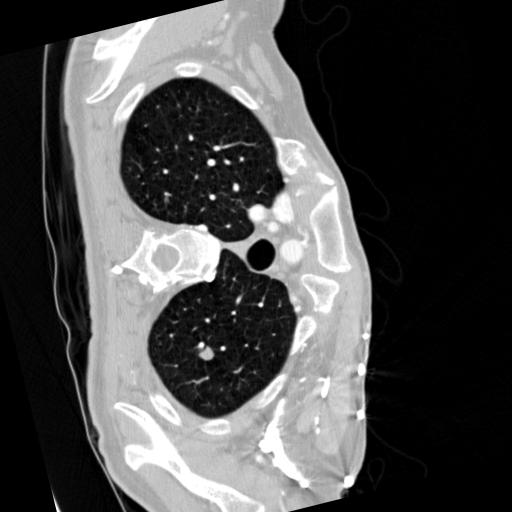nodule: (197, 344, 220, 367)
